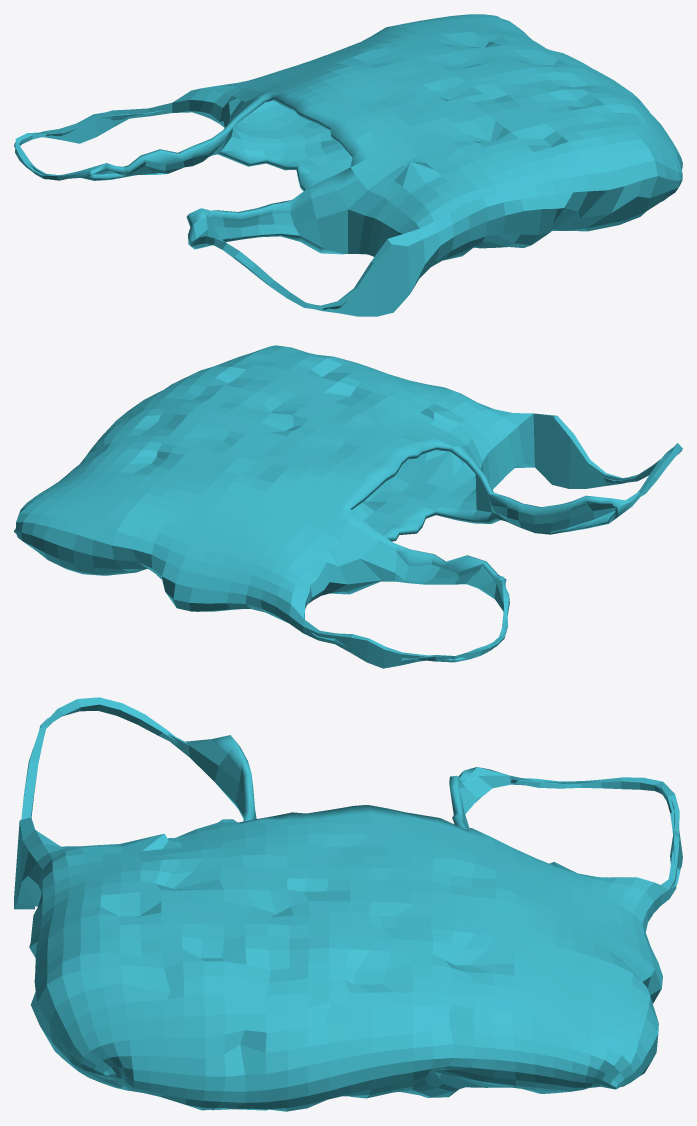
The model's file is PLASTIC BAG.fbx.
3 views of the same model, one above another, from view 1: azimuth 30°, elevation 25°; view 2: azimuth 150°, elevation 25°; view 3: azimuth 270°, elevation 25° (orthographic). The views are drawn at different scales.
Visible parts, largest first — view 1: Cube; view 2: Cube; view 3: Cube.
Part boxes in pixels (x1,y1,x2,y2): Cube: (14,14,682,316); Cube: (14,345,682,668); Cube: (14,697,682,1111).
Bounding box in the file's own units: 103 × 21.45 × 89.12.
